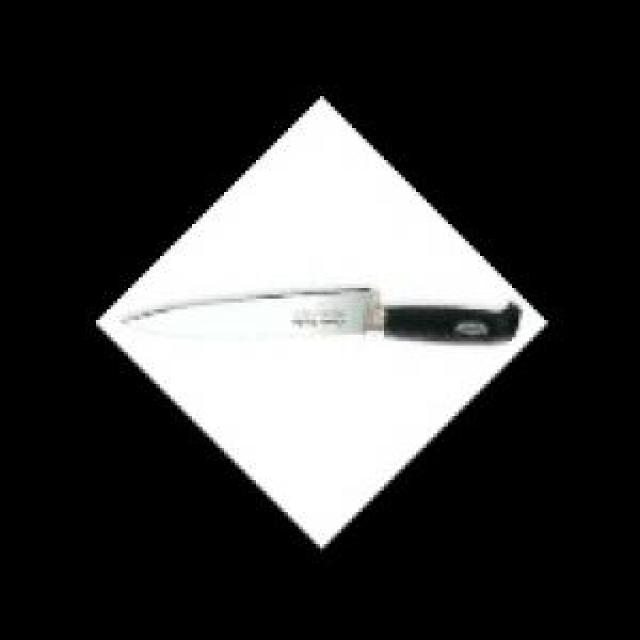knife: (100, 284, 524, 346)
